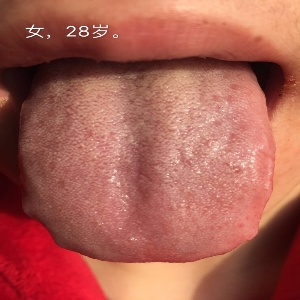st: (20, 84, 286, 266)
